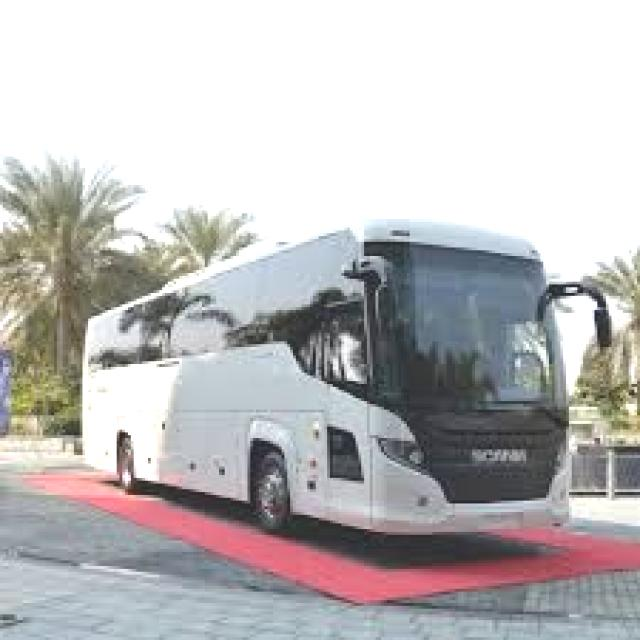bus: (62, 199, 630, 569)
